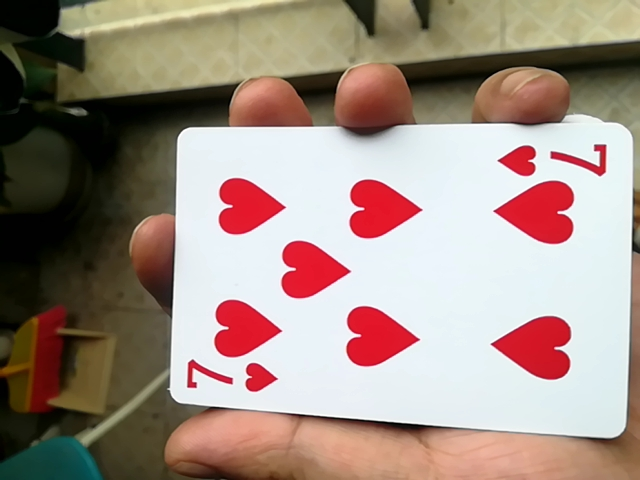hx 7: (149, 123, 631, 441)
